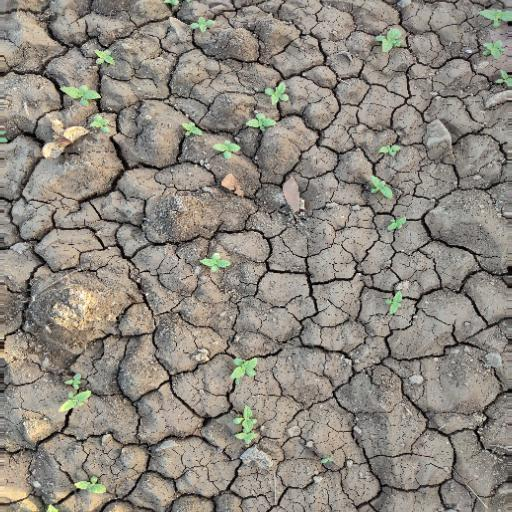crop: (365, 135, 413, 241), (464, 1, 512, 88), (56, 80, 116, 142), (239, 80, 293, 131), (227, 397, 268, 451), (59, 367, 94, 419), (371, 22, 406, 55), (228, 349, 261, 383), (197, 249, 235, 276), (382, 285, 409, 322), (182, 12, 220, 35), (179, 120, 208, 142)
